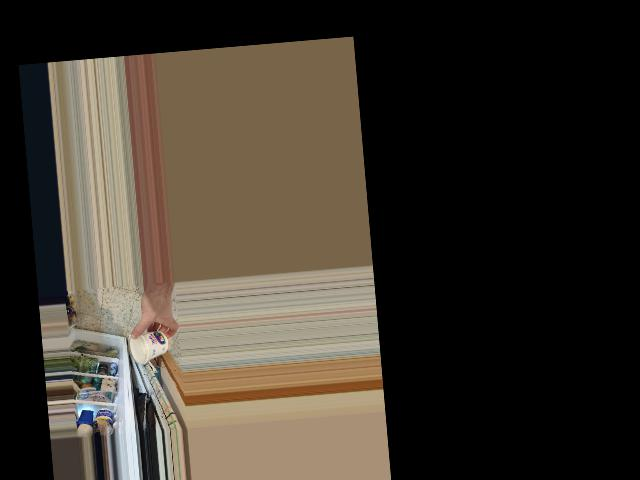cotage: (126, 324, 171, 366)
